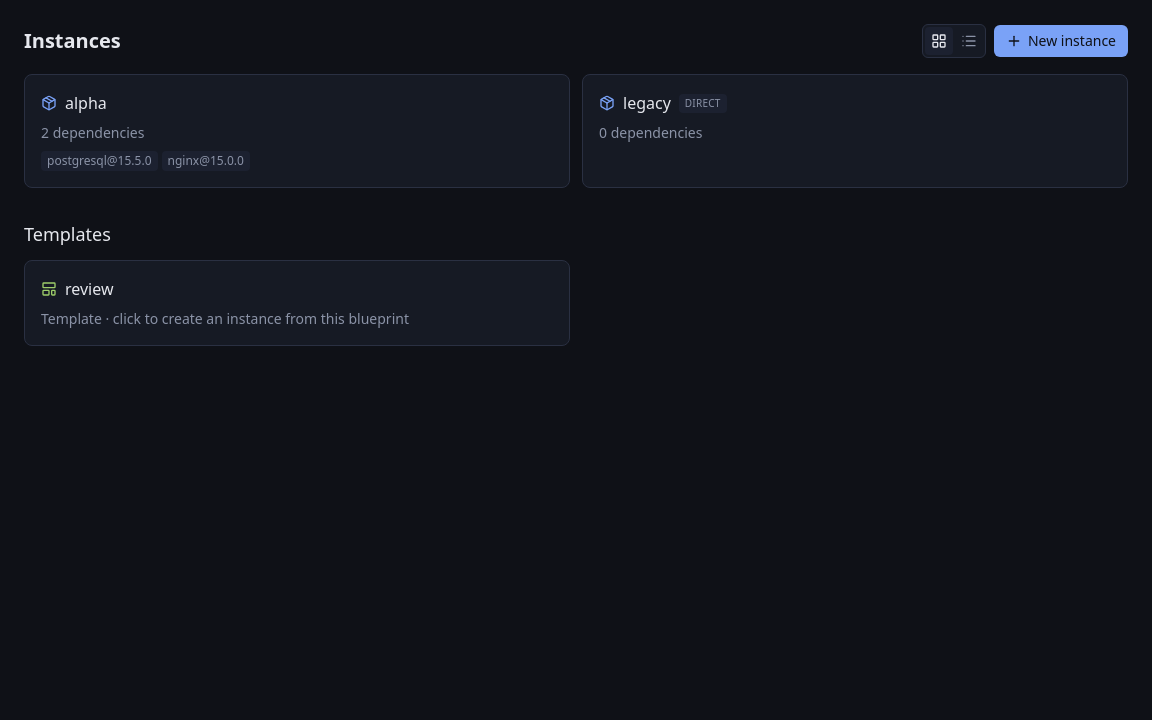
Test case: Dashboard › creates an instance and navigates to it
Expected: the text "alpha" is shown, [65,91,107,115]
Click the button "New instance" at (1061, 41), box [994,25,1128,57]
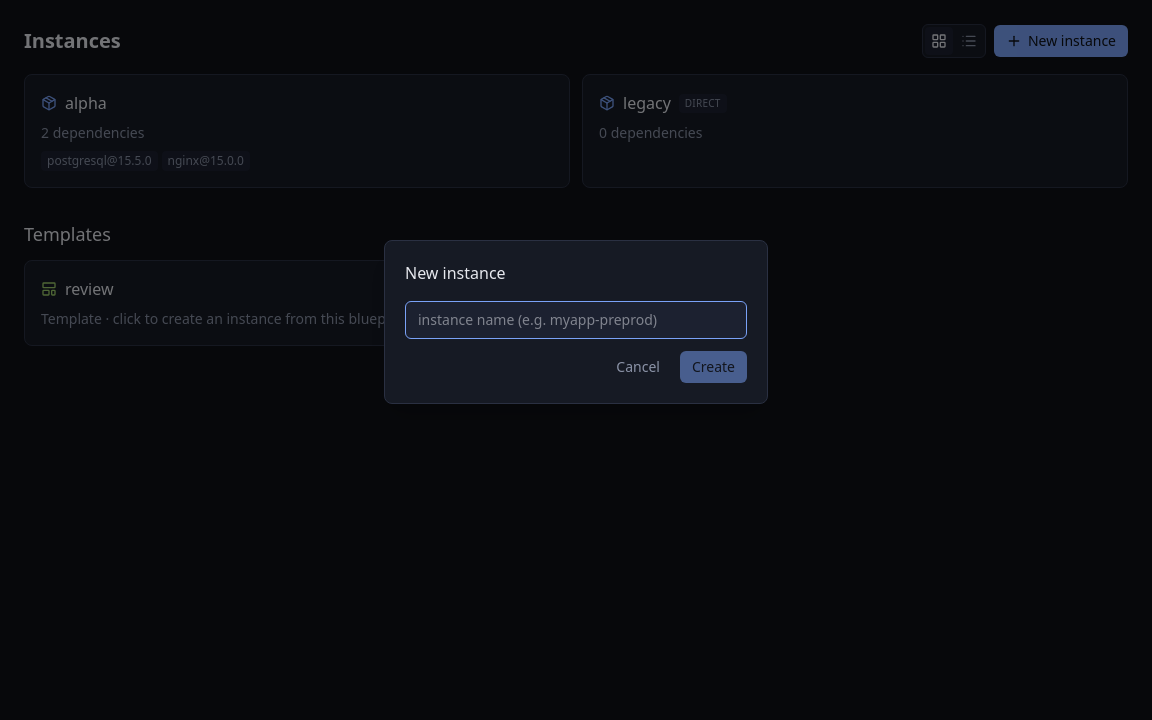
Type "bravo" into the field with placeholder "instance name (e.g. myapp-preprod)" at (576, 320), box [405,301,747,339]
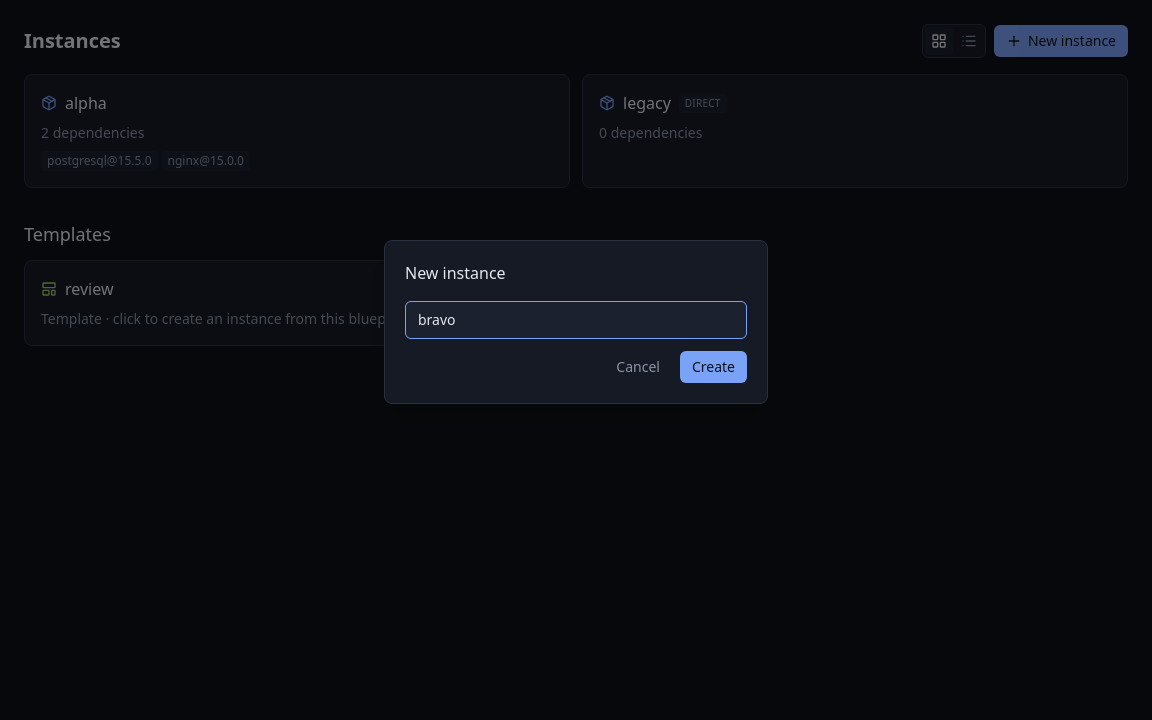
Click the button "Create" at (713, 367), box [680,351,747,383]
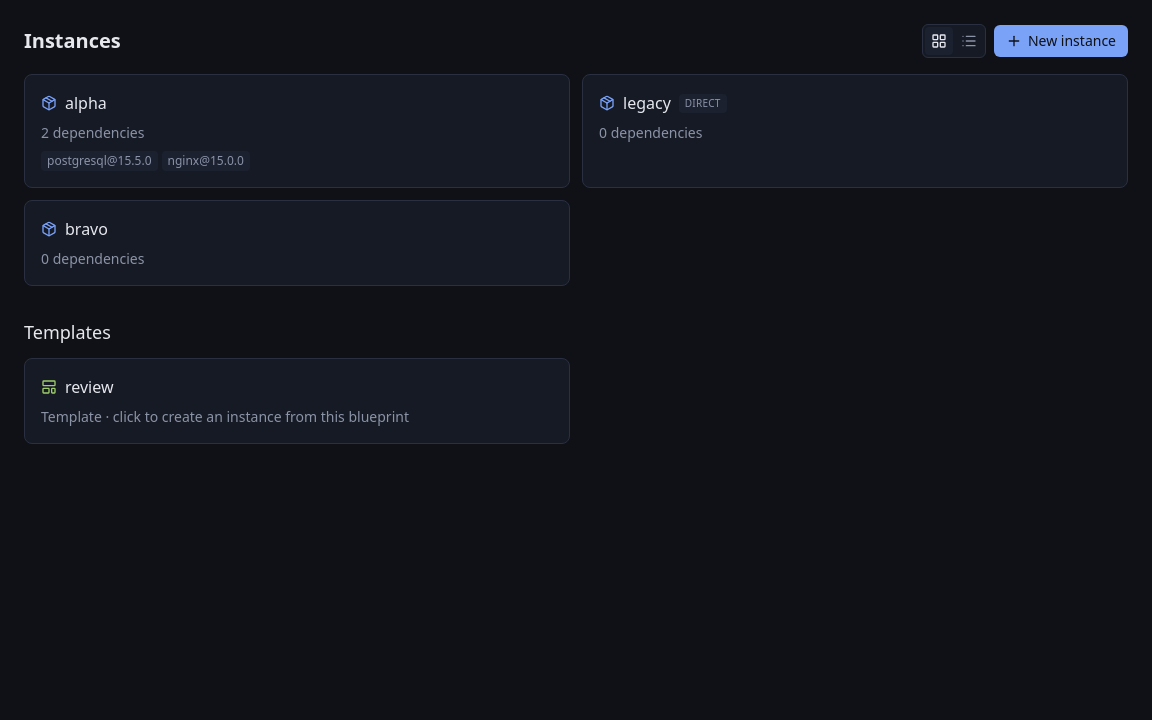
Now the text "bravo" is shown, box [65,217,108,241]
